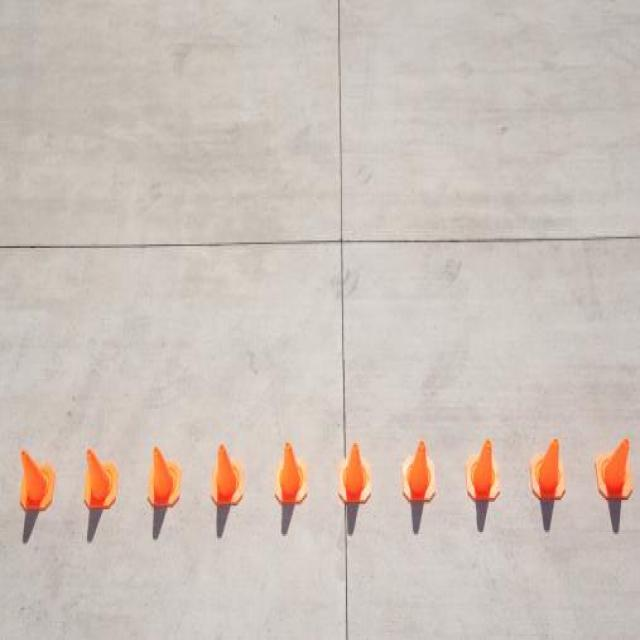Cone: (399, 439, 437, 506), (464, 435, 502, 502), (530, 436, 567, 504), (597, 436, 634, 504), (336, 440, 372, 508), (80, 447, 118, 511), (145, 445, 181, 511), (272, 440, 306, 508), (15, 445, 51, 507), (208, 441, 241, 508)
